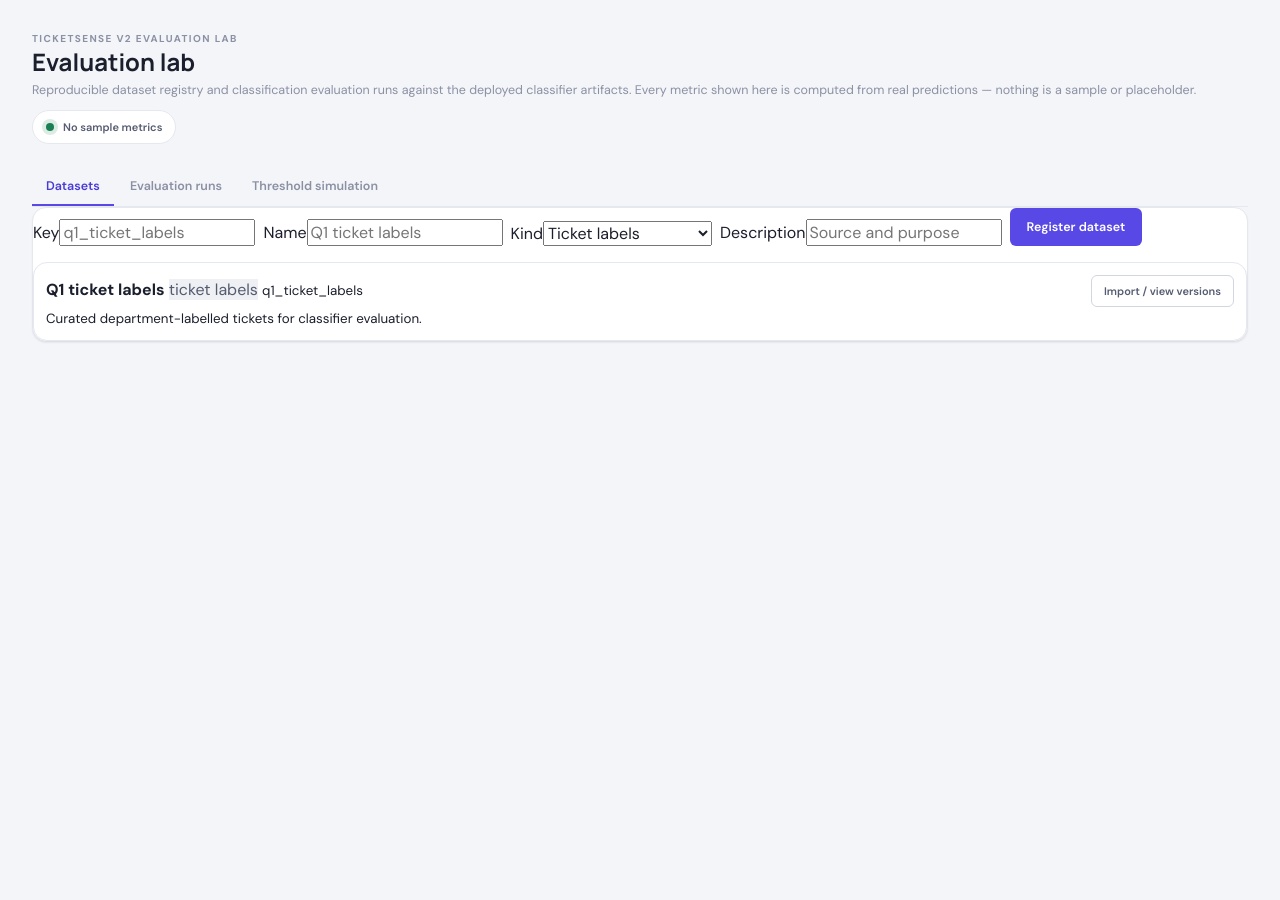
it: Evaluation lab › shows evaluation runs and drills into a run's real metrics
Click the tab "Evaluation runs" at (176, 187), box [116,168,236,206]
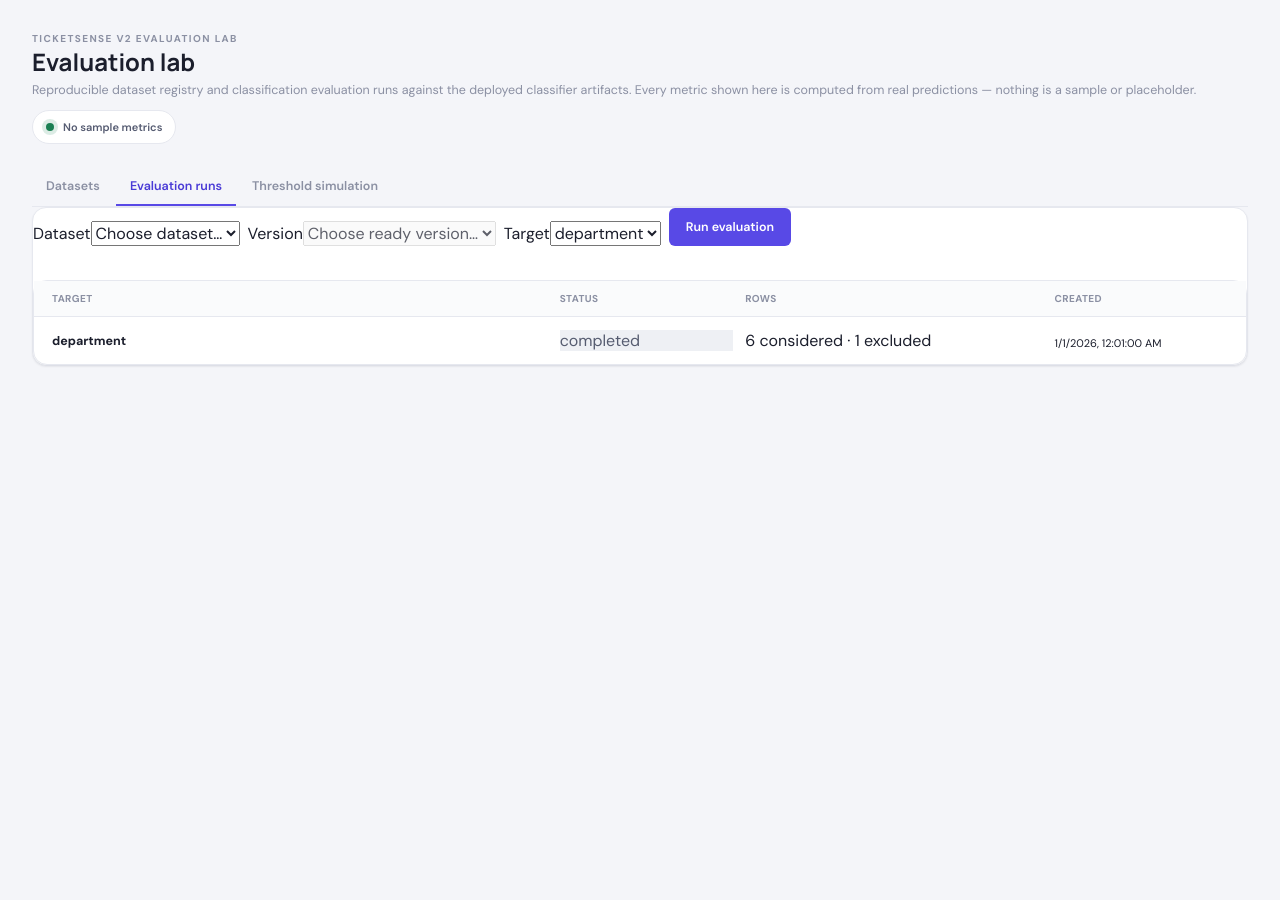
Click the text "department" at (89, 340), box [52,332,126,348]
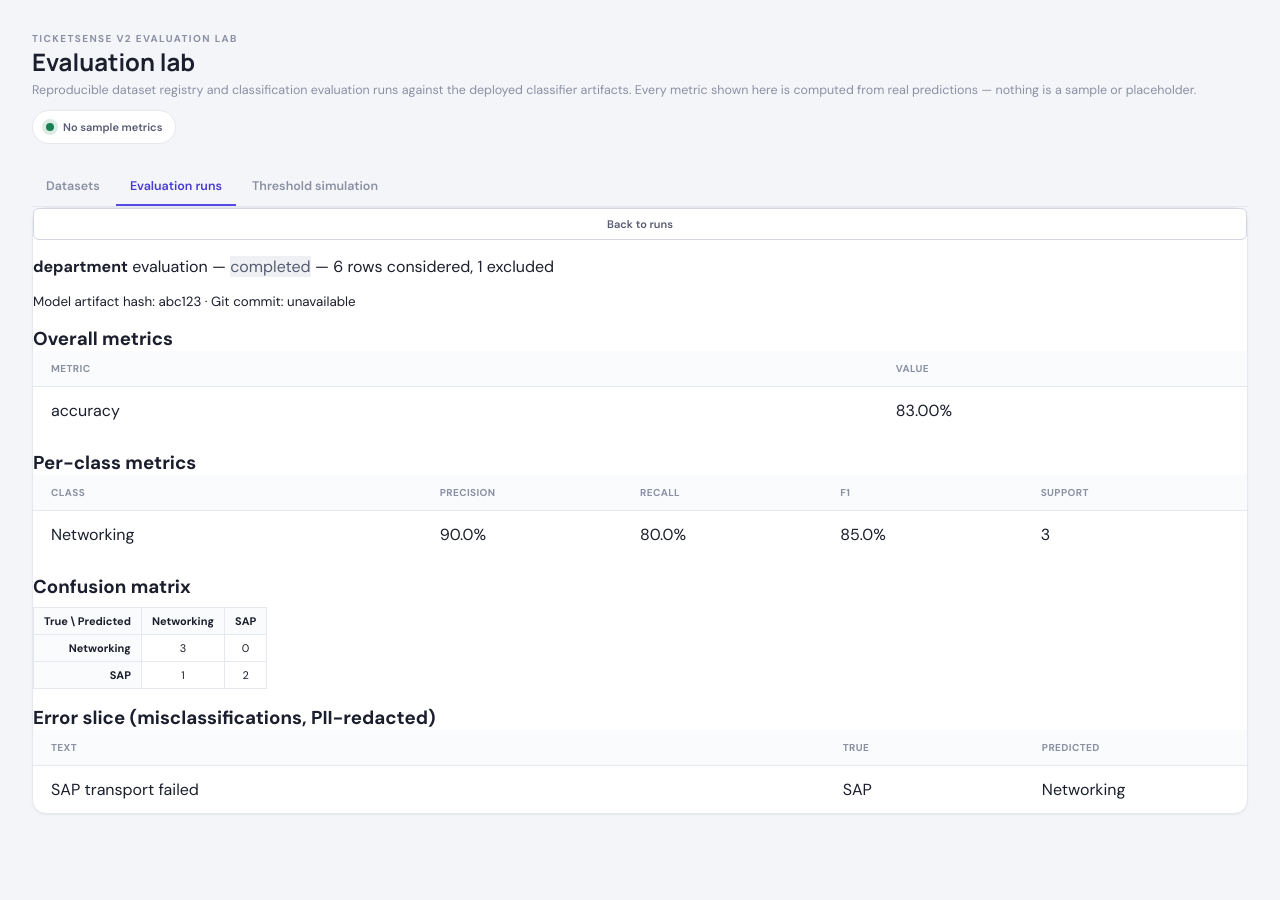
Check: the text "accuracy" is shown, box [51,400,120,421]
Check: the text "83.00%" is shown, box [896,400,952,421]
Check: the text "SAP transport failed" is shown, box [51,779,199,800]
